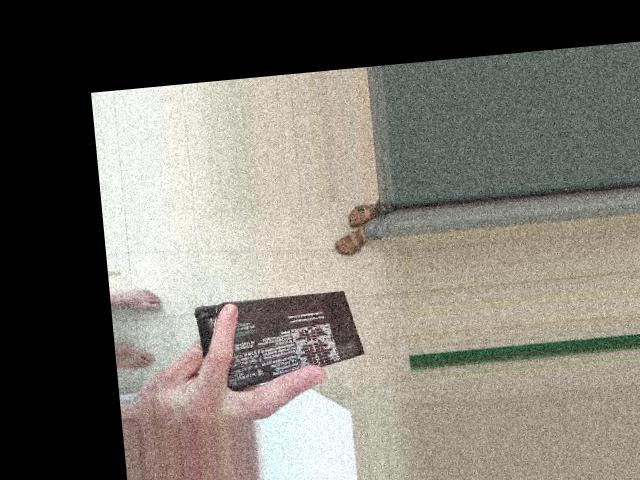chocolate: (197, 194, 324, 381)
